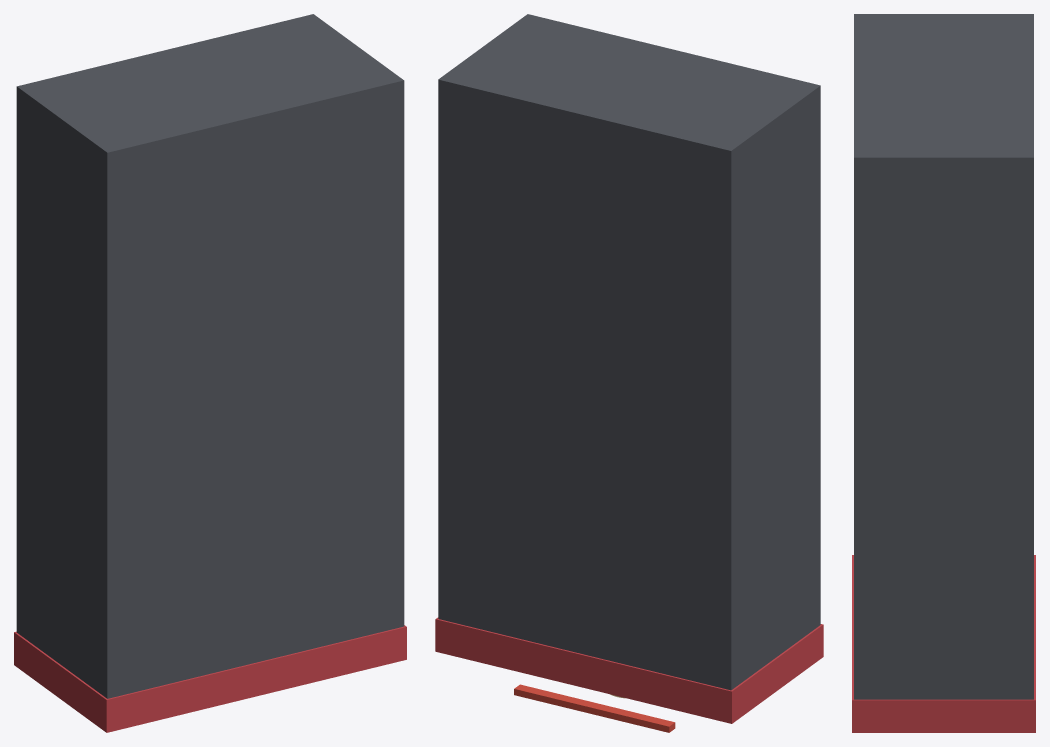
Rendered from obstacle_bear_market_train.glb.
The picture shows the model from 3 angles, left to right: view 1: azimuth 30°, elevation 25°; view 2: azimuth 150°, elevation 25°; view 3: azimuth 270°, elevation 25°; orthographic projection.
Visible parts, largest first — view 1: train_body, train_front; view 2: train_body, train_front, red_chart; view 3: train_body, train_front.
Boxes of the visible parts, <box> form: train_body: <box>16,14,404,698</box>; train_front: <box>14,625,406,732</box>; train_body: <box>438,14,820,690</box>; train_front: <box>435,617,823,723</box>; red_chart: <box>514,684,675,732</box>; train_body: <box>854,14,1033,699</box>; train_front: <box>852,555,1035,732</box>.
Bounding box in the file's own units: 1.72 × 3.37 × 0.92.
